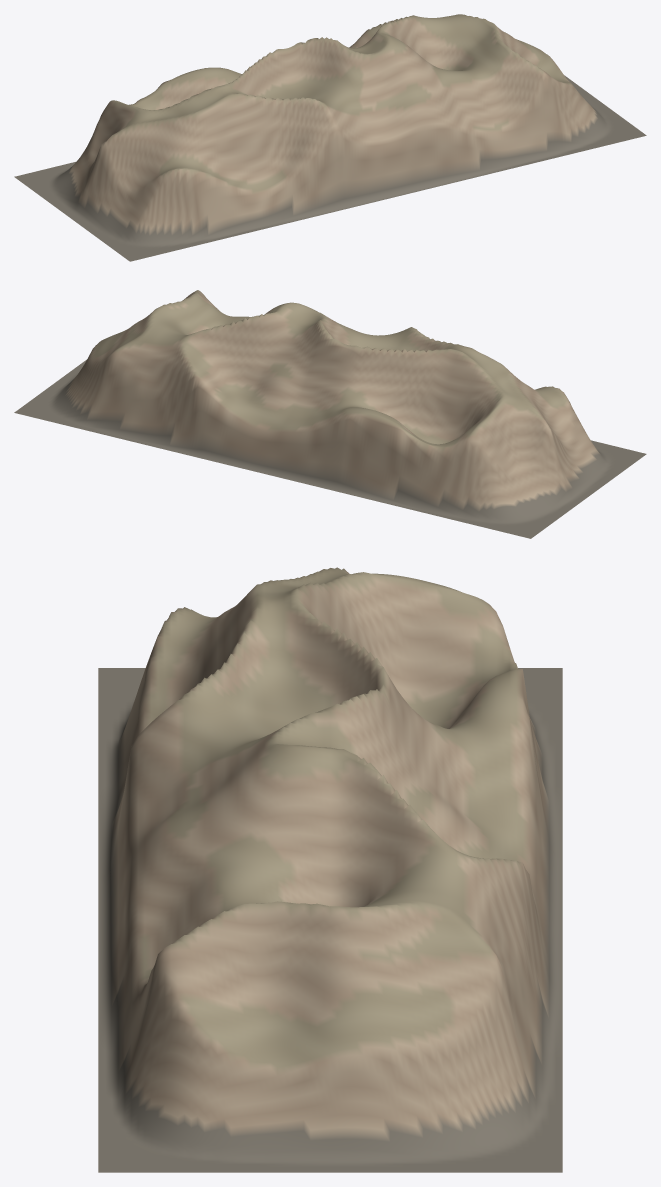
File: boat.glb
The picture shows the model from 3 angles, top to bottom: view 1: azimuth 30°, elevation 25°; view 2: azimuth 150°, elevation 25°; view 3: azimuth 270°, elevation 25°; orthographic projection. The views are drawn at different scales.
Parts seen in each view (by area): view 1: island; view 2: island; view 3: island.
Boxes of the visible parts, x1=… form: island: x1=14, y1=14, x2=646, y2=261; island: x1=14, y1=290, x2=646, y2=538; island: x1=98, y1=567, x2=562, y2=1172.
Size of the model in its own units: 360 by 75.53 by 140.
